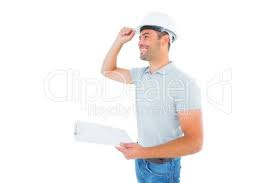Person_wearing_helmet: (127, 6, 183, 48)
